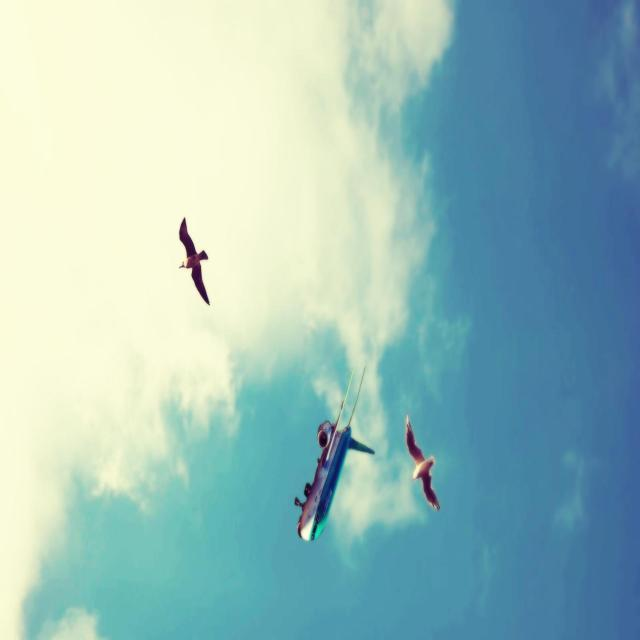airplane: (294, 364, 375, 542)
